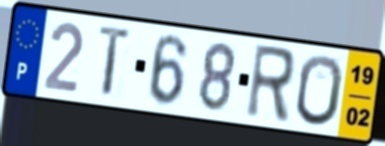2: (41, 20, 86, 95)
6: (147, 32, 192, 110)
8: (197, 41, 238, 115)
O: (294, 53, 345, 129)
R: (242, 42, 297, 127)
T: (97, 23, 135, 101)
